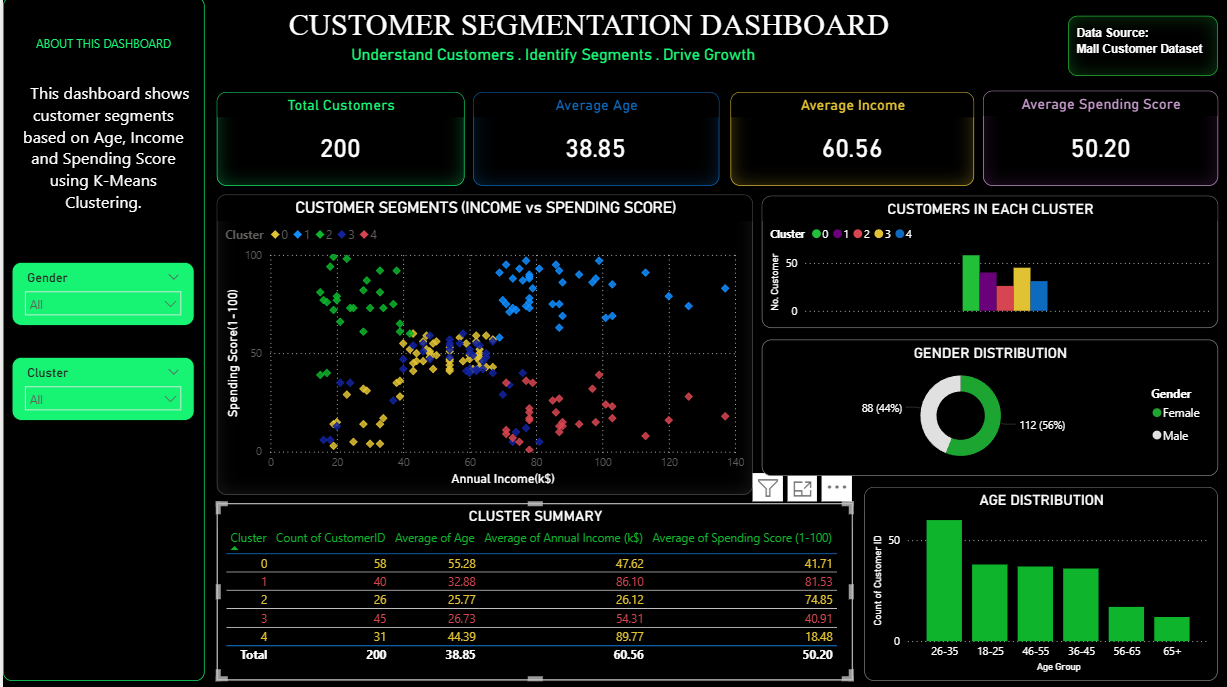

Layout of this report page (visuals, bound fields, positions):
{"tool":"powerbi","page":{"name":"Page 1","canvas":[1400,790],"ordinal":0},"visuals":[{"type":"textbox","title":"CUSTOMER SEGMENTATION DASHBOARD","box":[317.5,11.2,705,60],"z":0},{"type":"textbox","title":"Understand Customers . Identify Segments . Drive Growth","box":[296.2,56.2,666.2,30],"z":1000},{"type":"textbox","box":[0,0,230,781.4],"z":2000},{"type":"slicer","fields":{"Values":["customer_segments.Gender"]},"box":[10,302.9,208.6,72.9],"z":3000},{"type":"slicer","fields":{"Values":["customer_segments.Cluster"]},"box":[10,411.4,208.6,72.9],"z":4000},{"type":"card","title":"Total Customers","fields":{"Values":["CountNonNull(customer_segments.CustomerID)"]},"box":[244.3,108.6,282.9,107.1],"z":5000},{"type":"card","title":"Average Age","fields":{"Values":["Avg(customer_segments.Age)"]},"box":[537.1,108.6,281.4,107.1],"z":6000},{"type":"card","title":"Average Income","fields":{"Values":["Avg(customer_segments.Annual Income (k$))"]},"box":[831.4,108.6,278.6,107.1],"z":7000},{"type":"card","title":"Average Spending Score","fields":{"Values":["Avg(customer_segments.Spending Score (1-100))"]},"box":[1120,107.1,268.6,108.6],"z":8000},{"type":"textbox","box":[1217.1,21.4,171.4,68.6],"z":9000},{"type":"scatterChart","title":"CUSTOMER SEGMENTS (INCOME vs SPENDING SCORE)","fields":{"X":["customer_segments.Annual Income (k$)"],"Y":["customer_segments.Spending Score (1-100)"],"Series":["customer_segments.Cluster"]},"box":[244.3,225.7,612.9,342.9],"z":10000},{"type":"tableEx","title":"CLUSTER SUMMARY","fields":{"Values":["customer_segments.Cluster","CountNonNull(customer_segments.CustomerID)","Avg(customer_segments.Age)","Avg(customer_segments.Annual Income (k$))","Avg(customer_segments.Spending Score (1-100))"]},"box":[244.3,578.6,727.1,202.9],"z":11000},{"type":"columnChart","title":"AGE DISTRIBUTION","fields":{"Y":["CountNonNull(customer_segments.CustomerID)"],"Category":["customer_segments.Age Group"]},"box":[984.3,560,404.3,221.4],"z":12000},{"type":"donutChart","title":"GENDER DISTRIBUTION","fields":{"Category":["customer_segments.Gender"],"Y":["CountNonNull(customer_segments.CustomerID)"]},"box":[867.1,391.4,521.4,155.7],"z":13000},{"type":"clusteredColumnChart","title":"CUSTOMERS IN EACH CLUSTER","fields":{"Y":["CountNonNull(customer_segments.CustomerID)"],"Series":["customer_segments.Cluster"]},"box":[867,227.7,521.6,150.9],"z":14000}]}

Visuals, with their boxes in screenshot pixels (x1, y1, x2, y2), scaled from the page's 1400x790 canvas onto the 1227x687 screenshot:
"CUSTOMER SEGMENTATION DASHBOARD" textbox: {"x1": 278, "y1": 10, "x2": 896, "y2": 62}
"Understand Customers . Identify Segments . Drive Growth" textbox: {"x1": 260, "y1": 49, "x2": 843, "y2": 75}
textbox: {"x1": 0, "y1": 0, "x2": 202, "y2": 680}
slicer - customer_segments.Gender: {"x1": 9, "y1": 263, "x2": 192, "y2": 327}
slicer - customer_segments.Cluster: {"x1": 9, "y1": 358, "x2": 192, "y2": 421}
"Total Customers" card: {"x1": 214, "y1": 94, "x2": 462, "y2": 188}
"Average Age" card: {"x1": 471, "y1": 94, "x2": 717, "y2": 188}
"Average Income" card: {"x1": 729, "y1": 94, "x2": 973, "y2": 188}
"Average Spending Score" card: {"x1": 982, "y1": 93, "x2": 1217, "y2": 188}
textbox: {"x1": 1067, "y1": 19, "x2": 1217, "y2": 78}
"CUSTOMER SEGMENTS (INCOME vs SPENDING SCORE)" scatterChart: {"x1": 214, "y1": 196, "x2": 751, "y2": 494}
"CLUSTER SUMMARY" tableEx: {"x1": 214, "y1": 503, "x2": 851, "y2": 680}
"AGE DISTRIBUTION" columnChart: {"x1": 863, "y1": 487, "x2": 1217, "y2": 680}
"GENDER DISTRIBUTION" donutChart: {"x1": 760, "y1": 340, "x2": 1217, "y2": 476}
"CUSTOMERS IN EACH CLUSTER" clusteredColumnChart: {"x1": 760, "y1": 198, "x2": 1217, "y2": 329}
